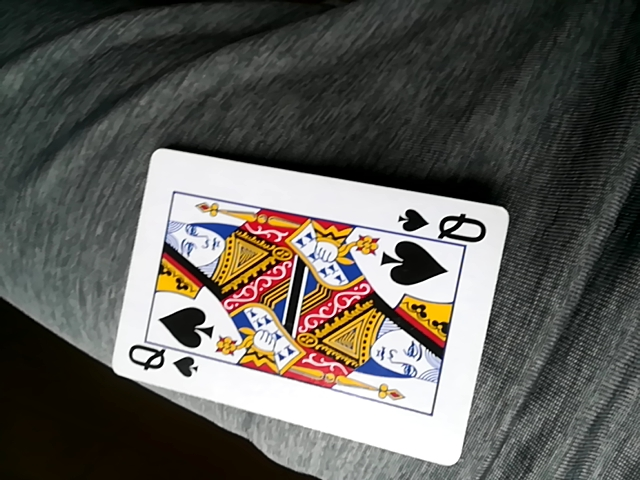ht q: (112, 146, 514, 466)
